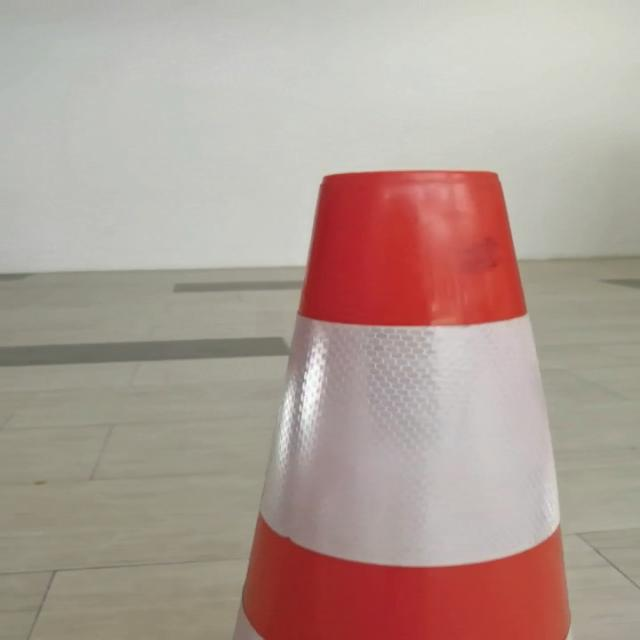cone: (227, 167, 582, 640)
